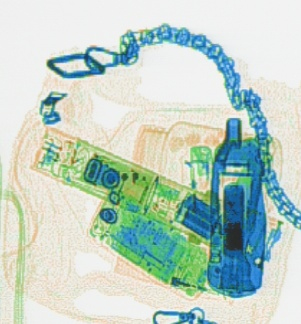knife: (206, 114, 272, 300)
lighter: (111, 252, 227, 299), (184, 143, 219, 244)
